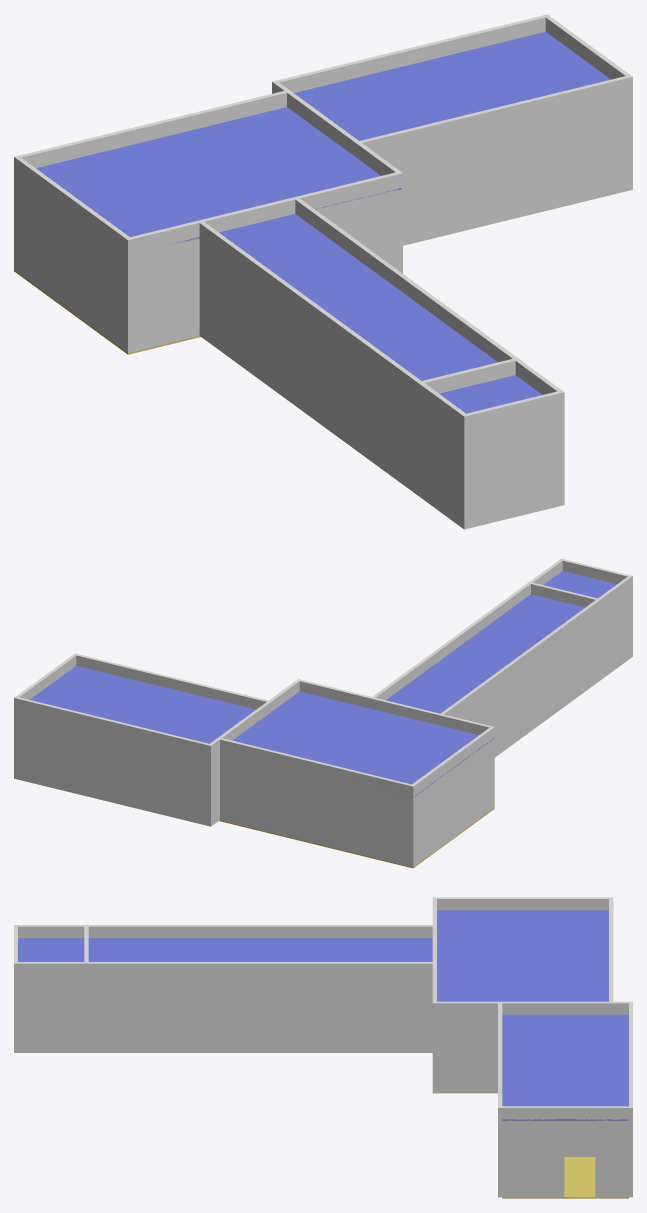
The model's file is Escenario_2.glb.
The picture shows the model from 3 angles, top to bottom: view 1: azimuth 30°, elevation 25°; view 2: azimuth 150°, elevation 25°; view 3: azimuth 270°, elevation 25°; orthographic projection. The views are drawn at different scales.
Visible parts, largest first — view 1: Paredes.004, Paredes.008, techo.001, techo, techo.002, Paredes, Paredes.005, Paredes.001, Paredes.002, Paredes.006, Paredes.009, Paredes.007 (+5 smaller); view 2: Paredes.009, Paredes.007, Paredes.004, techo.001, techo, techo.002, Paredes, Paredes.006, Paredes.008, Paredes.010, Paredes.002, Paredes.005 (+6 smaller); view 3: Paredes.006, techo.001, techo.002, MarcoPuerta.002, techo, Paredes.003, Paredes.004, Paredes, Suelo.002, Paredes.008, MarcoPuerta.001, Paredes.009 (+2 smaller).
Boxes of the visible parts, x1=… form: Paredes.004: x1=199, y1=222, x2=465, y2=527; Paredes.008: x1=359, y1=75, x2=632, y2=245; techo.001: x1=36, y1=107, x2=401, y2=245; techo: x1=219, y1=214, x2=542, y2=413; techo.002: x1=294, y1=31, x2=610, y2=140; Paredes: x1=14, y1=155, x2=132, y2=352; Paredes.005: x1=461, y1=390, x2=564, y2=529; Paredes.001: x1=130, y1=217, x2=213, y2=351; Paredes.002: x1=283, y1=172, x2=398, y2=270; Paredes.006: x1=295, y1=198, x2=561, y2=394; Paredes.009: x1=277, y1=14, x2=549, y2=92; Paredes.007: x1=19, y1=89, x2=291, y2=168; Paredes.009: x1=14, y1=696, x2=209, y2=825; Paredes.007: x1=217, y1=737, x2=411, y2=866; Paredes.004: x1=441, y1=576, x2=630, y2=757; techo.001: x1=233, y1=691, x2=494, y2=797; techo: x1=386, y1=571, x2=616, y2=713; techo.002: x1=30, y1=665, x2=255, y2=743; Paredes: x1=410, y1=726, x2=494, y2=867; Paredes.006: x1=372, y1=560, x2=562, y2=700; Paredes.008: x1=73, y1=653, x2=268, y2=709; Paredes.010: x1=207, y1=738, x2=219, y2=826; Paredes.002: x1=299, y1=680, x2=382, y2=710; Paredes.005: x1=559, y1=558, x2=632, y2=657; Paredes.006: x1=18, y1=962, x2=432, y2=1052; techo.001: x1=437, y1=910, x2=608, y2=1001; techo.002: x1=502, y1=1014, x2=628, y2=1120; MarcoPuerta.002: x1=502, y1=1106, x2=628, y2=1197; techo: x1=18, y1=938, x2=432, y2=961; Paredes.003: x1=432, y1=1001, x2=544, y2=1092; Paredes.004: x1=18, y1=925, x2=432, y2=937; Paredes: x1=432, y1=897, x2=613, y2=910; Suelo.002: x1=502, y1=1157, x2=628, y2=1198; Paredes.008: x1=498, y1=1003, x2=502, y2=1197; MarcoPuerta.001: x1=544, y1=1001, x2=608, y2=1014; Paredes.009: x1=629, y1=1003, x2=632, y2=1197.
Size of the model in its own units: 35.93 by 7.2 by 44.6.
